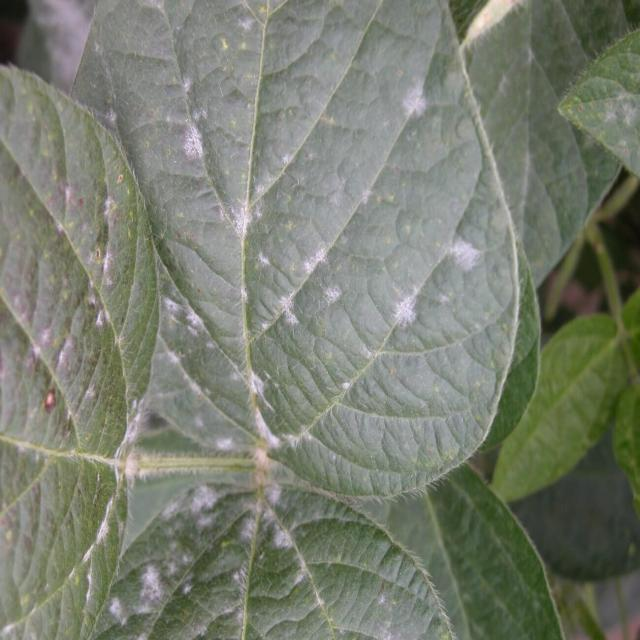Powdery Mildew: (2, 1, 635, 638)
